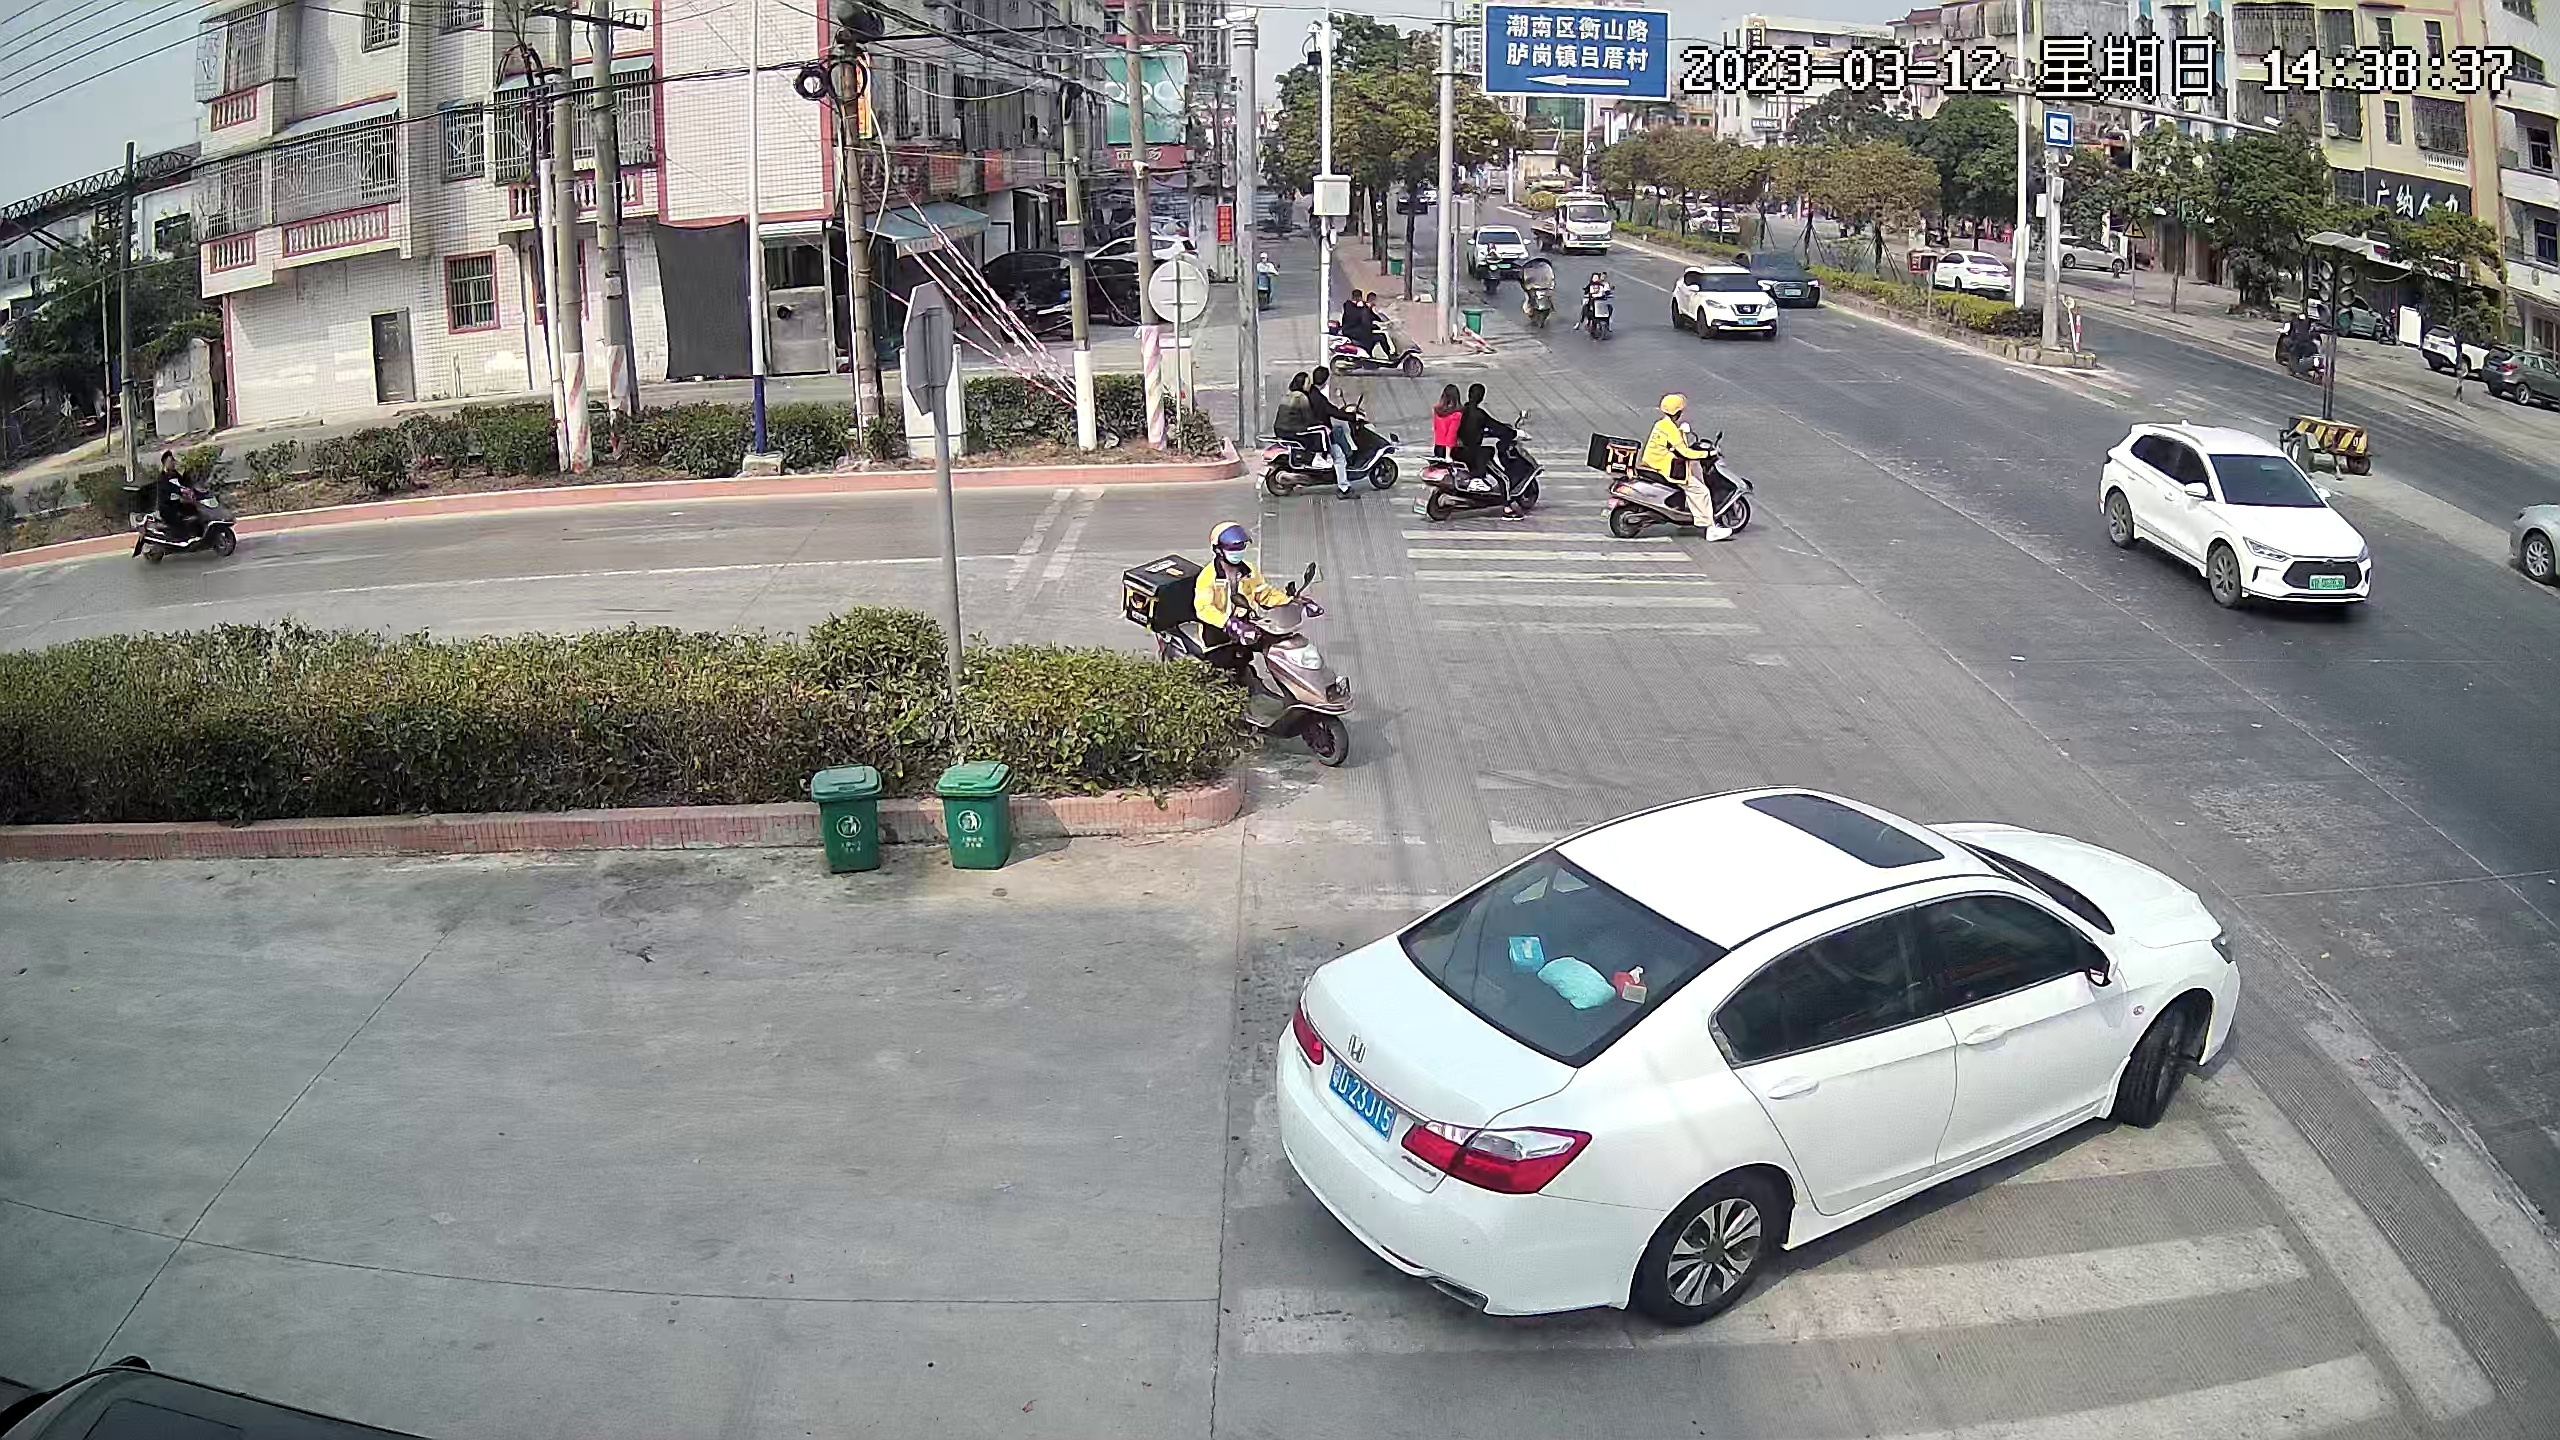head: (1188, 515, 1280, 607)
motorcycle: (1118, 518, 1360, 770), (1590, 387, 1760, 548), (1260, 364, 1409, 507), (1422, 360, 1545, 530), (114, 440, 239, 562), (1322, 283, 1413, 375), (2285, 302, 2337, 379), (1525, 255, 1557, 332), (1580, 265, 1615, 335), (1254, 253, 1278, 313), (1482, 242, 1503, 298)
person: (1649, 389, 1732, 548), (1455, 378, 1517, 514), (1294, 364, 1352, 477), (148, 442, 200, 535)
sedan: (1259, 789, 2257, 1327), (3, 1328, 509, 1440), (989, 258, 1149, 315), (2507, 487, 2560, 598), (1924, 248, 2017, 302), (2424, 323, 2494, 393), (1749, 244, 1820, 312), (2495, 337, 2553, 408), (2324, 280, 2385, 339), (2054, 237, 2129, 277), (1688, 202, 1740, 245), (1397, 183, 1430, 224)
suv: (2108, 404, 2375, 620), (1678, 268, 1772, 343), (1474, 215, 1520, 259)
truck: (1530, 194, 1613, 260)
